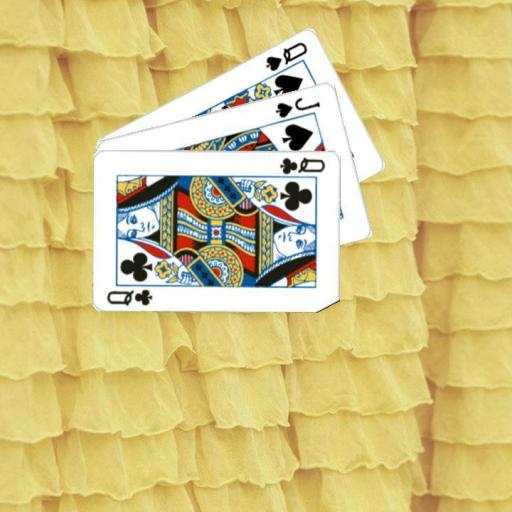JS: (272, 93, 322, 119)
QC: (104, 285, 154, 307), (277, 154, 327, 175)
QS: (263, 39, 310, 73)
